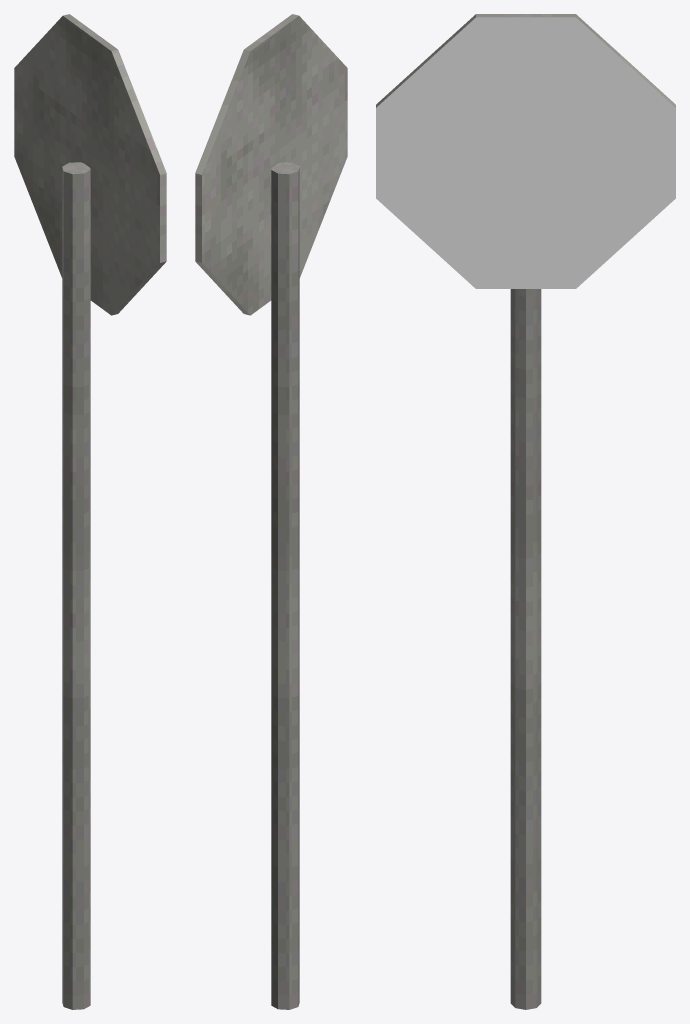
Rendered from stopsign.gltf.
The picture shows the model from 3 angles, left to right: view 1: azimuth 30°, elevation 25°; view 2: azimuth 150°, elevation 25°; view 3: azimuth 270°, elevation 25°; orthographic projection. The views are drawn at different scales.
Visible parts, largest first — view 1: stopsign; view 2: stopsign; view 3: stopsign.
Part boxes in pixels (left/top/right/bottom): stopsign: left=14, top=14, right=166, bottom=1009; stopsign: left=195, top=14, right=347, bottom=1009; stopsign: left=376, top=14, right=675, bottom=1009.
Bounding box in the file's own units: 0.0757 × 2.32 × 0.6327.
2 materials, 1 textured.
